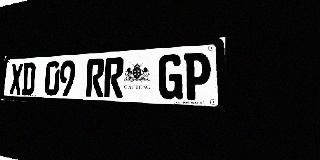0: (44, 61, 60, 96)
9: (59, 60, 76, 96)
D: (21, 62, 36, 95)
G: (158, 54, 183, 100)
P: (183, 52, 211, 101)
R: (104, 57, 124, 98), (86, 58, 105, 97)
X: (9, 63, 23, 95)
